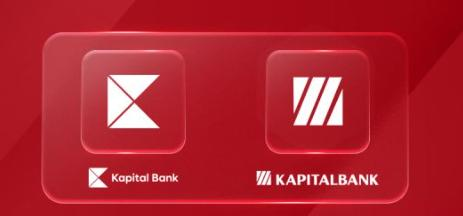Kapital Bank: (103, 71, 161, 130), (85, 164, 110, 188)
